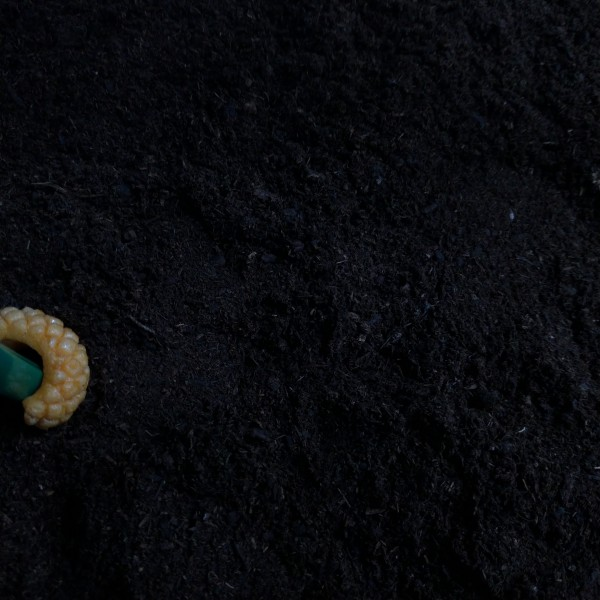eggs: (1, 282, 93, 438)
